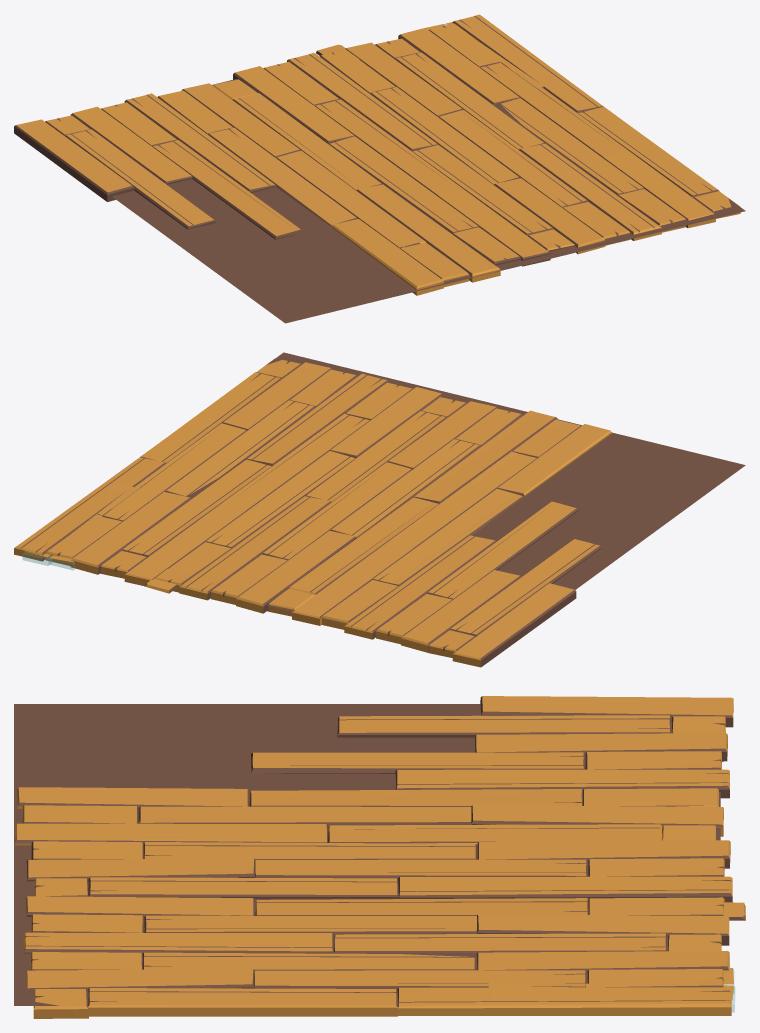
Rendered from wizard_house_floor.fbx.
The picture shows the model from 3 angles, top to bottom: view 1: azimuth 30°, elevation 25°; view 2: azimuth 150°, elevation 25°; view 3: azimuth 270°, elevation 25°; orthographic projection. The views are drawn at different scales.
Parts seen in each view (by area): view 1: wood_floor; view 2: wood_floor; view 3: wood_floor.
Part boxes in pixels (x1,y1,x2,y2): wood_floor: [14, 14, 745, 323]; wood_floor: [14, 352, 745, 667]; wood_floor: [14, 696, 745, 1018].
Size of the model in its own units: 1855 by 1872 by 51.92.
